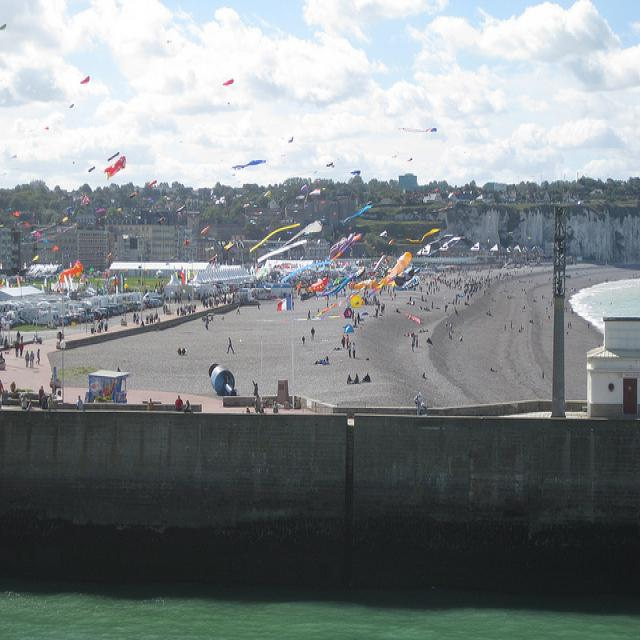Vehicle: (108, 306, 118, 317)
